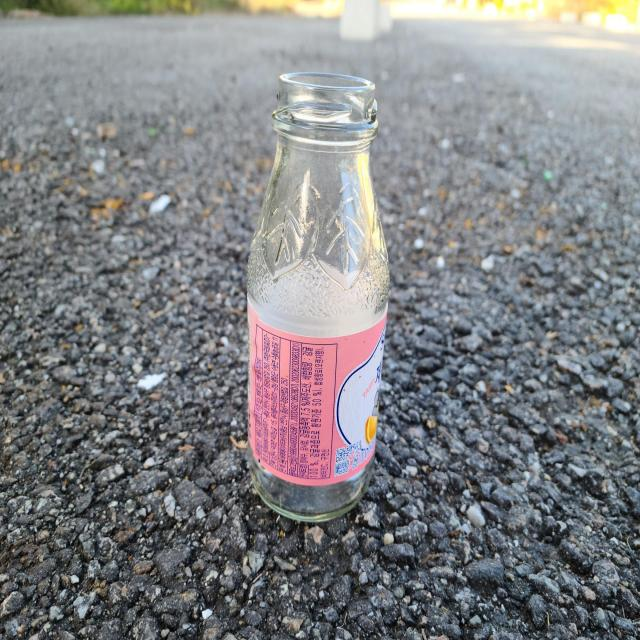glass: (248, 73, 389, 521)
